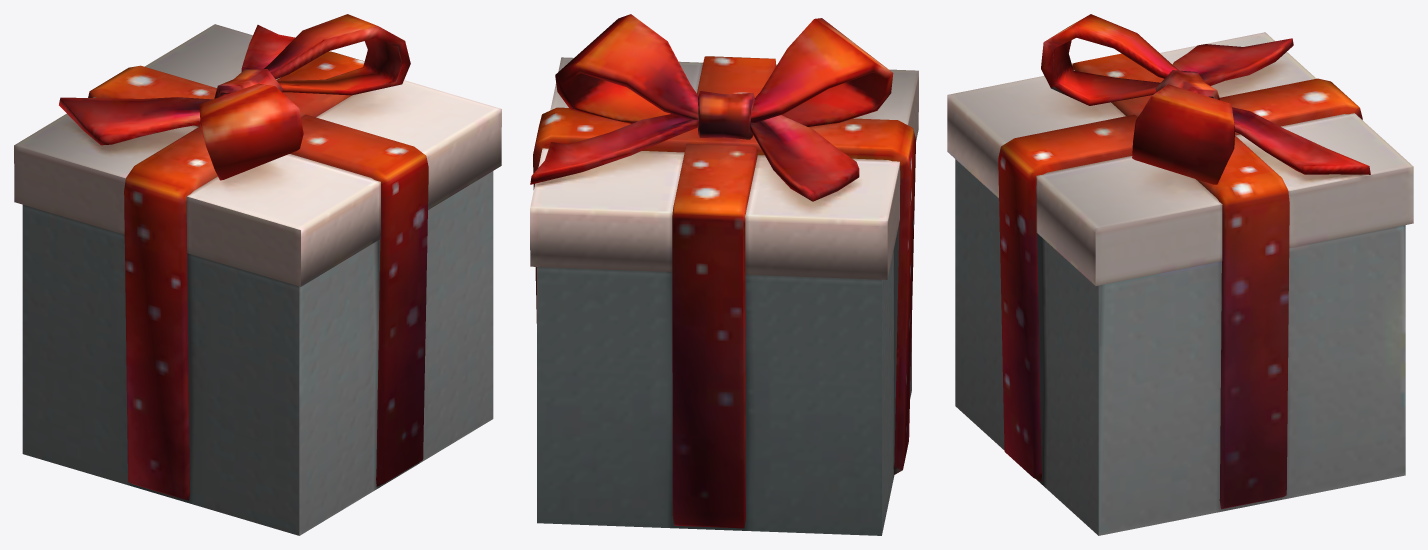
Rendered from pref_snowfestival_gift_lv2.fbx.
3 renders of one model, left to right at view 1: azimuth 30°, elevation 25°; view 2: azimuth 150°, elevation 25°; view 3: azimuth 270°, elevation 25°, orthographic. The views are drawn at different scales.
Parts seen in each view (by area): view 1: pref_sm_prop_gift01_lv2; view 2: pref_sm_prop_gift01_lv2; view 3: pref_sm_prop_gift01_lv2.
Part boxes in pixels (<box>): pref_sm_prop_gift01_lv2: <box>14,14,501,535</box>; pref_sm_prop_gift01_lv2: <box>530,14,918,535</box>; pref_sm_prop_gift01_lv2: <box>947,14,1413,535</box>.
Size of the model in its own units: 1.06 by 0.9973 by 1.06.
